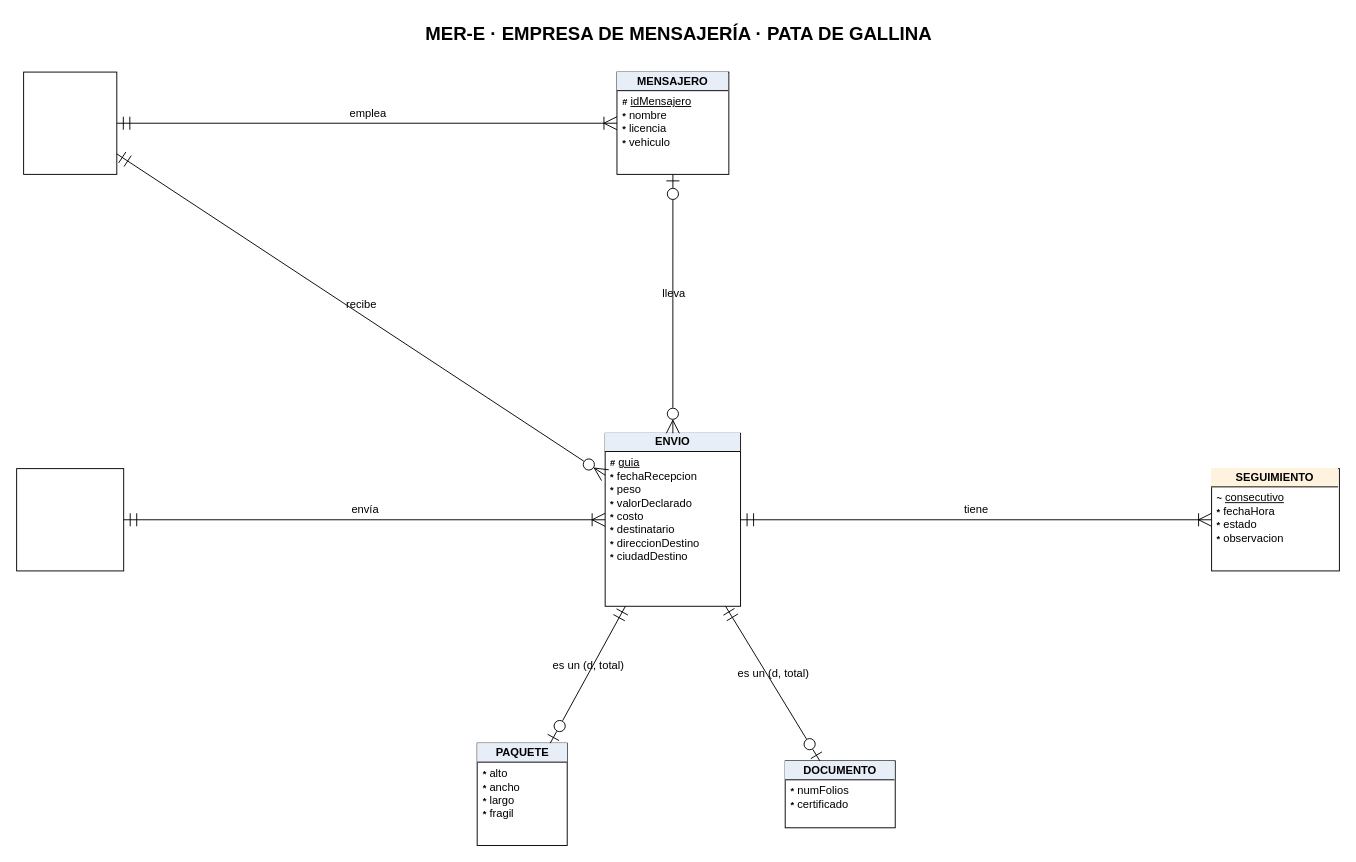
Some shapes in this 1356 by 862 pixel diagram are drawn without their labels. Each missing label, with the box of its shape:
CLIENTE # nit * razonSocial * telefono * correo: (16, 468, 124, 571)
SEDE # idSede * ciudad * direccion * telefono: (23, 71, 117, 174)
